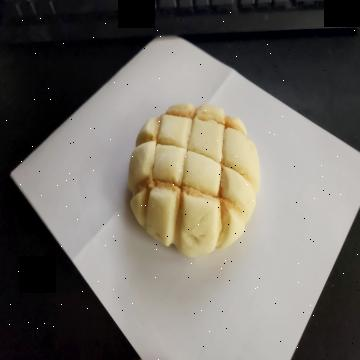melon_bread: (127, 102, 263, 256)
